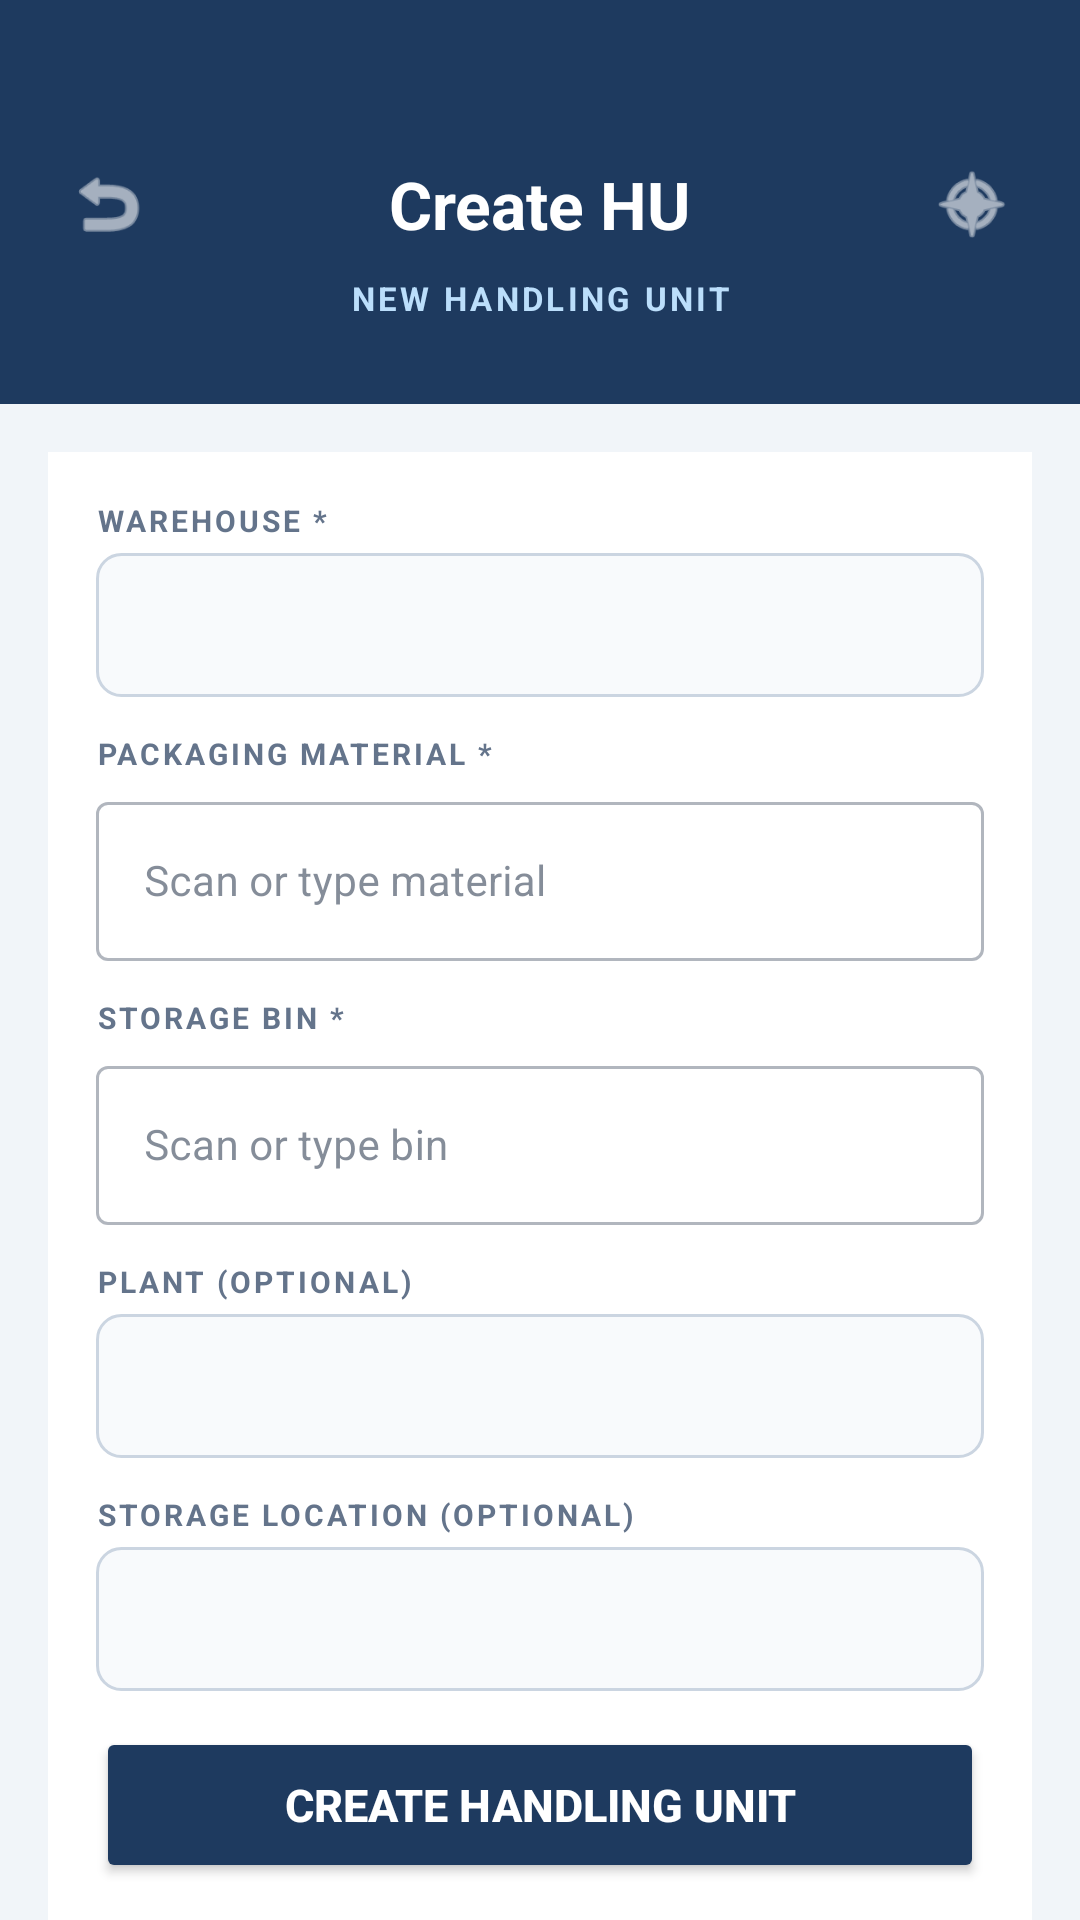

Icon bounding boxes for this 1080 x 1920 phone screenshot, format (x1, y1, x2, y2):
compass: (939, 171, 1005, 238)
revert: (79, 177, 139, 232)
